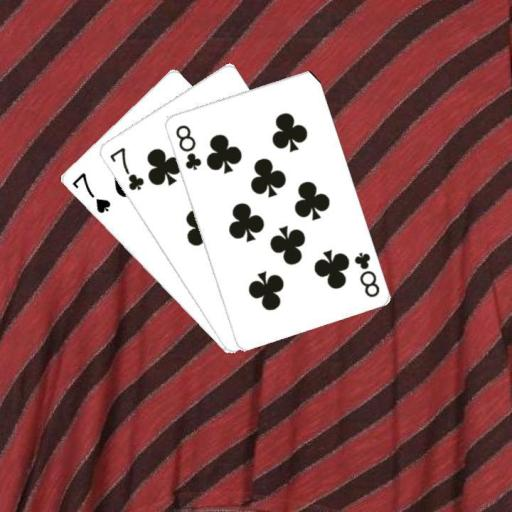7C: (106, 144, 146, 192)
7S: (69, 169, 113, 215)
8C: (172, 121, 203, 171), (351, 248, 381, 299)
